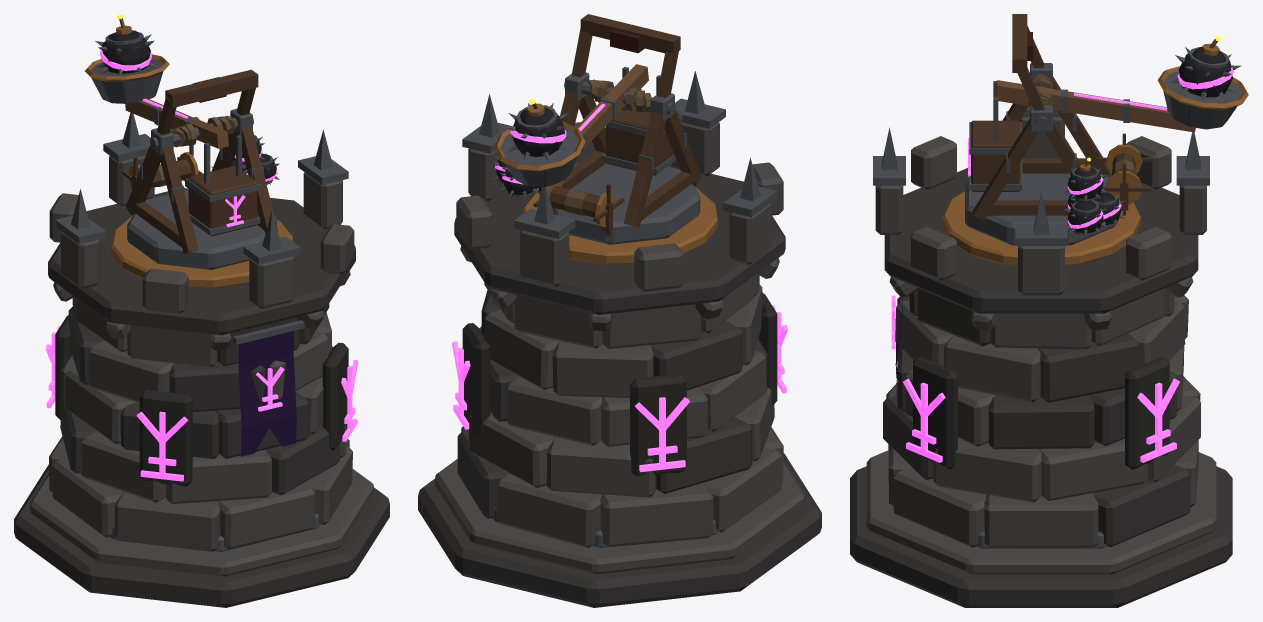
File: bomb_tower_big.glb
3 views of the same model, side by side, from view 1: azimuth 30°, elevation 25°; view 2: azimuth 150°, elevation 25°; view 3: azimuth 270°, elevation 25° (orthographic). The views are drawn at different scales.
Visible parts, largest first — view 1: Platform, Plinth, Plinth_Step, Banner, Block_0_5, Turret_Base, Block_0_6, Block_1_5, RuneStone_3, Block_3_4, Block_1_4, Block_3_5 (+39 smaller); view 2: Plinth, Platform, Plinth_Step, Block_0_3, Turret_Base, Block_0_2, Block_1_2, Block_3_2, Block_2_2, RuneStone_2, Block_3_3, Block_1_3 (+40 smaller); view 3: Platform, Plinth, Plinth_Step, Block_0_0, Block_2_0, Block_1_7, Block_3_0, Block_0_1, Block_0_7, Block_3_7, Block_1_0, Turret_Ring (+41 smaller).
Part boxes in pixels (x1,y1,x2,y2): Platform: (48,188,355,335); Plinth: (14,464,389,607); Plinth_Step: (30,469,373,576); Banner: (238,331,296,456); Block_0_5: (114,492,220,551); Turret_Base: (127,189,276,269); Block_0_6: (217,483,315,549); Block_1_5: (165,449,271,503); RuneStone_3: (139,389,192,486); Block_3_4: (88,340,174,402); Block_1_4: (80,431,165,502); Block_3_5: (169,361,265,411); Plinth: (418,453,821,607); Platform: (454,164,785,314); Plinth_Step: (435,459,804,574); Block_0_3: (600,482,713,547); Turret_Base: (539,163,700,244); Block_0_2: (496,473,601,547); Block_1_2: (546,437,656,497); Block_3_2: (552,341,653,397); Block_2_2: (506,377,602,445); RuneStone_2: (630,373,686,476); Block_3_3: (651,320,742,390); Block_1_3: (656,416,752,493); Platform: (884,168,1198,313); Plinth: (850,466,1232,607); Plinth_Step: (866,450,1216,574); Block_0_0: (984,493,1098,547); Block_2_0: (988,395,1094,449); Block_1_7: (933,438,1041,502); Block_3_0: (1037,333,1139,402); Block_0_1: (1094,464,1190,547); Block_0_7: (893,466,986,547); Block_3_7: (944,335,1040,402); Block_1_0: (1038,438,1147,500); Turret_Ring: (942,191,1140,265).
Size of the model in its own units: 2.77 by 3.95 by 2.89.
